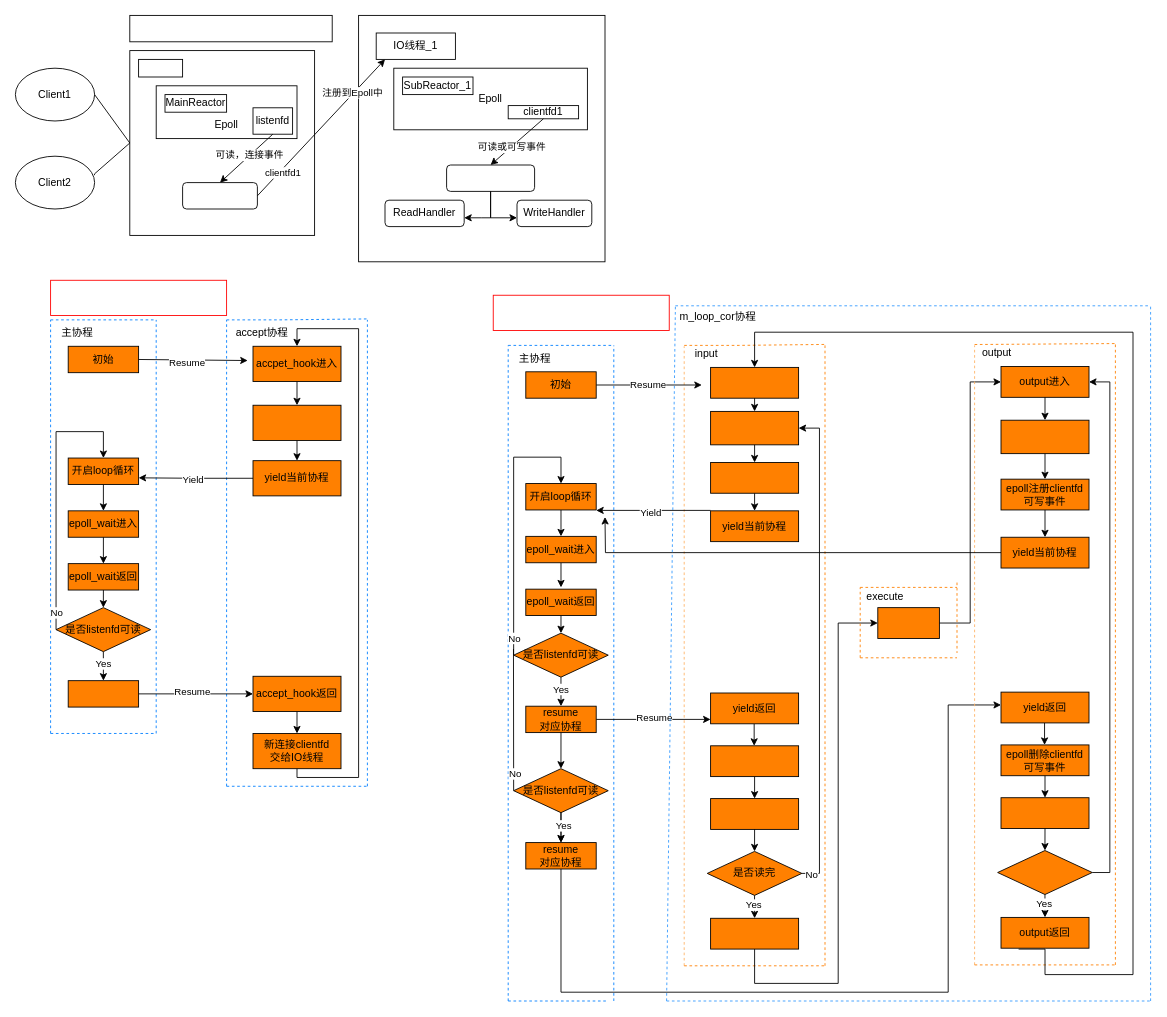
Image size: 1167x1017. Some labels were removed from this diagram. Here are the shapes that lost their labels. From the top down, the centre of each, then its label:
At [230,28]: "主从Reactor模式".
At [160,68]: "主线程".
At [219,195]: "Acceptor".
At [490,177]: "Handler".
At [138,297]: "主线程（MainReactor)".
At [580,312]: "IO线程（SubReactor)".
At [754,382]: "input进入".
At [296,422]: "epoll注册listenfd 可读事件".
At [754,428]: "read_hook进入".
At [1044,436]: "write_hook进入".
At [754,477]: "epoll注册clientfd 可读事件".
At [908,622]: "excute".
At [103,693]: "resume accept协程".
At [754,761]: "epoll删除clientfd 可读事件".
At [754,813]: "read_hook返回".
At [1044,813]: "write_hook返回".
At [1044,872]: "是否写完".
At [754,933]: "input返回".
